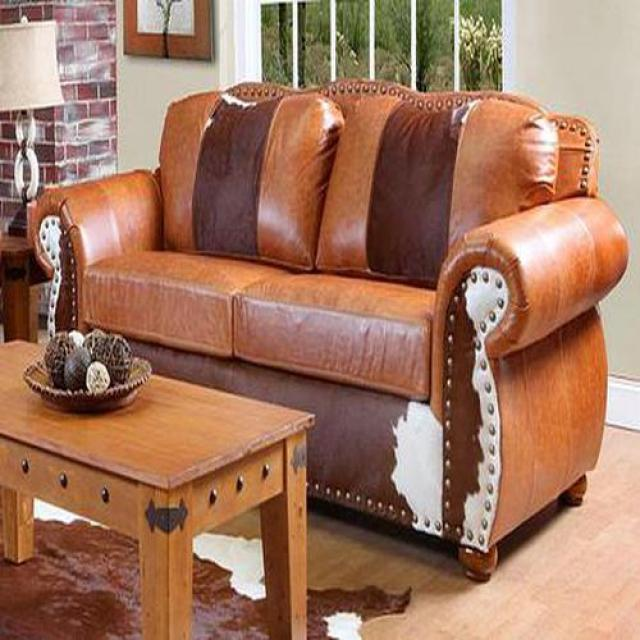sofa: (29, 78, 627, 581)
